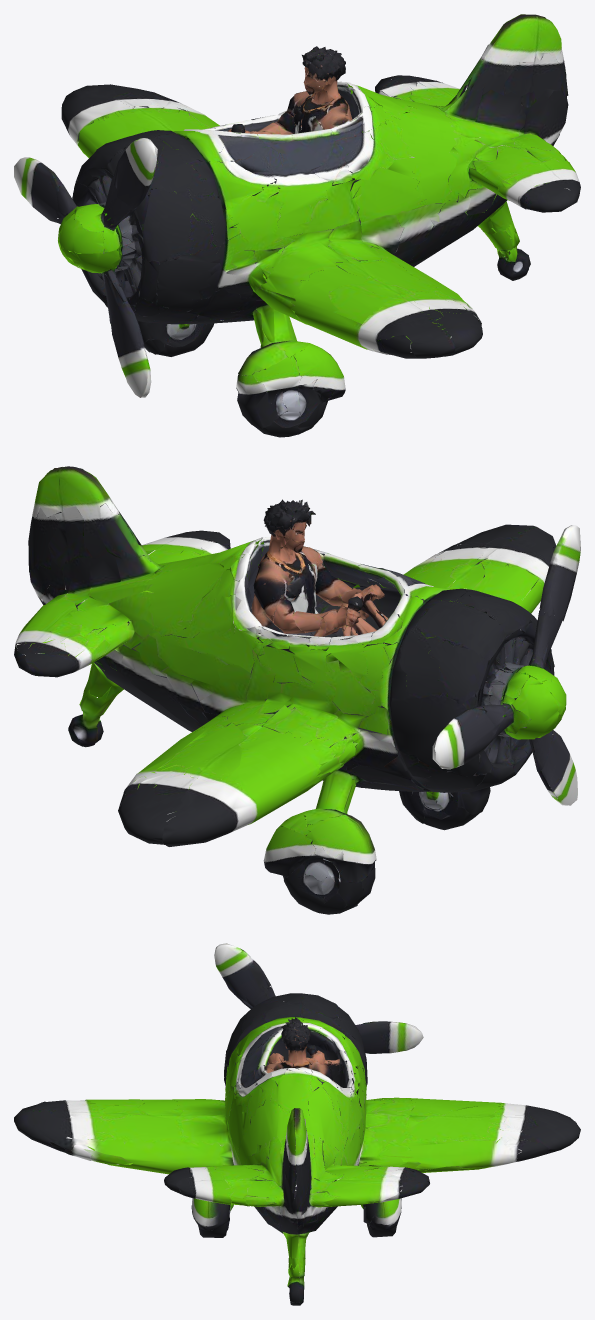
Rendered from v-d5a0bbed-lod1.plane.glb.
3 views of the same model, one above another, from view 1: azimuth 30°, elevation 25°; view 2: azimuth 150°, elevation 25°; view 3: azimuth 270°, elevation 25° (orthographic). The views are drawn at different scales.
Parts seen in each view (by area): view 1: Mesh_0; view 2: Mesh_0; view 3: Mesh_0.
Part boxes in pixels (x1,y1,x2,y2): Mesh_0: [14, 14, 580, 437]; Mesh_0: [14, 466, 580, 914]; Mesh_0: [14, 943, 580, 1305].
Size of the model in its own units: 3.61 by 2.19 by 4.6.
Materials: 1 (1 with a texture image).
